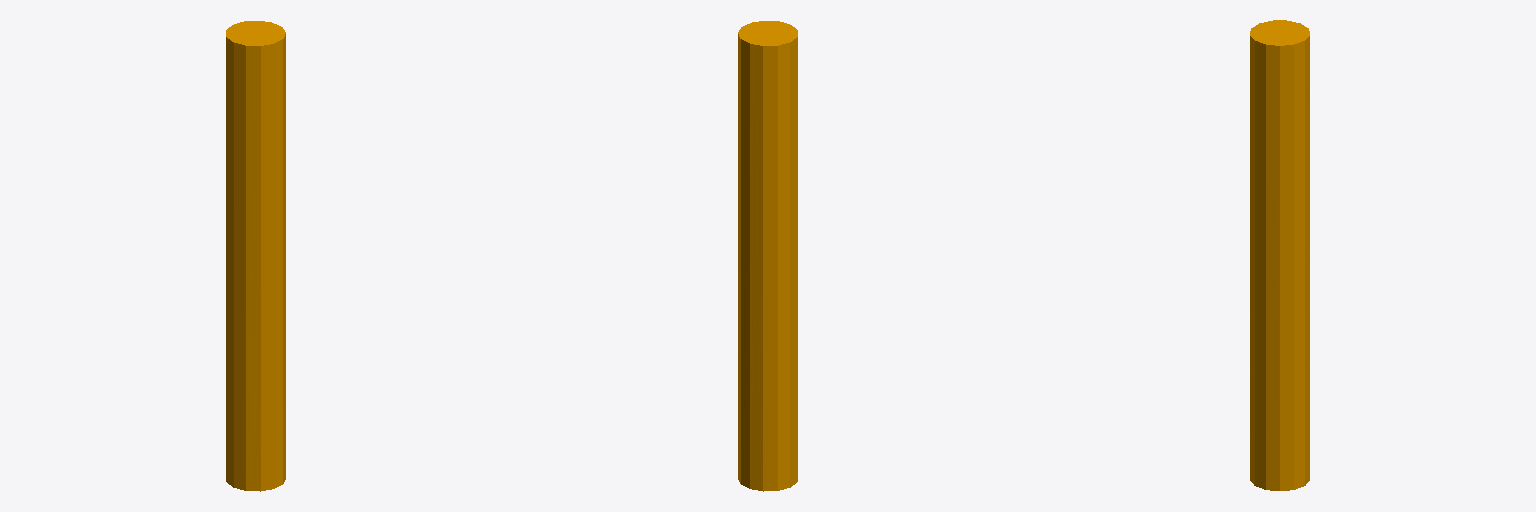
robot.urdf — 00030_plug:
<?xml version="1.0"?>
<robot name="00030_plug">
	<link name="00030_plug">
		<visual>
			<geometry>
				<mesh filename="../mesh/00030/asset_plug.obj"/>
			</geometry>
		</visual>
		<collision>
			<geometry>
				<mesh filename="../mesh/00030/asset_plug.obj"/>
			</geometry>
			<sdf resolution="256"/>
		</collision>
	</link>
</robot>

--- What the picture shows (computed from the rendered views, not written in the file) ---
Views: 3 orthographic renders of the robot side by side, from view 1: azimuth 30°, elevation 25°; view 2: azimuth 150°, elevation 25°; view 3: azimuth 270°, elevation 25°.
Robot: 00030_plug — 1 links, 0 joints (none); root link 00030_plug; default pose: all joints at 0.
Links seen in each view (by area): view 1: 00030_plug; view 2: 00030_plug; view 3: 00030_plug.
Link boxes in pixels (box(x1,y1,x2,y2)): 00030_plug: box(226, 21, 285, 491); 00030_plug: box(738, 21, 797, 491); 00030_plug: box(1250, 20, 1309, 490).
Bounding box of the posed robot: 0.0066 × 0.0066 × 0.0535 m (x, y, z).
1 mesh visuals loaded from 1 distinct referenced files (1 OBJ).